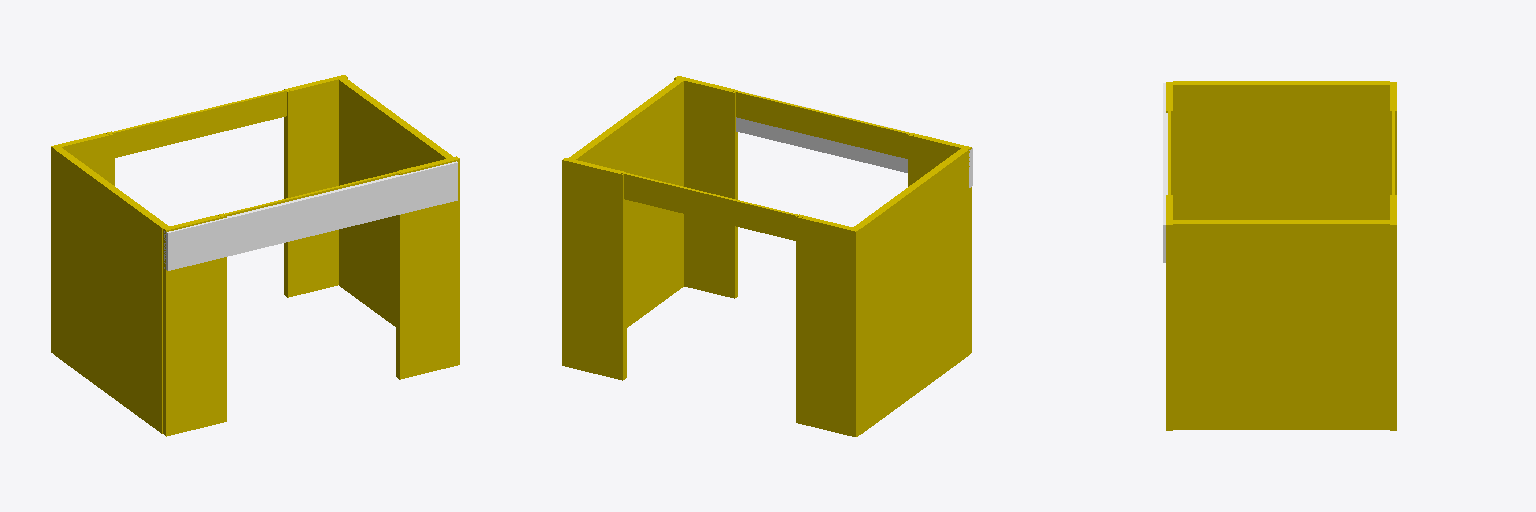
File: phongbanve.obj
The picture shows the model from 3 angles: view 1: azimuth 30°, elevation 25°; view 2: azimuth 150°, elevation 25°; view 3: azimuth 270°, elevation 25°; orthographic projection.
Parts seen in each view (by area): view 1: obj4, obj9, obj5, obj1, obj2, obj7, obj8, obj6, obj3; view 2: obj4, obj7, obj6, obj5, obj2, obj8, obj3, obj9, obj1; view 3: obj5, obj4, obj2, obj7, obj9, obj6.
Boxes of the visible parts, x1=… form: obj4: x1=54, y1=147, x2=168, y2=433; obj9: x1=164, y1=161, x2=457, y2=270; obj5: x1=339, y1=78, x2=452, y2=326; obj1: x1=163, y1=213, x2=226, y2=436; obj2: x1=396, y1=156, x2=459, y2=379; obj7: x1=284, y1=75, x2=347, y2=297; obj8: x1=106, y1=89, x2=289, y2=157; obj6: x1=51, y1=131, x2=114, y2=353; obj3: x1=218, y1=171, x2=400, y2=216; obj4: x1=853, y1=148, x2=968, y2=434; obj7: x1=562, y1=158, x2=626, y2=380; obj6: x1=796, y1=214, x2=859, y2=436; obj5: x1=569, y1=79, x2=683, y2=327; obj2: x1=674, y1=76, x2=737, y2=298; obj8: x1=621, y1=172, x2=803, y2=240; obj3: x1=733, y1=90, x2=915, y2=158; obj9: x1=736, y1=91, x2=972, y2=187; obj1: x1=908, y1=133, x2=971, y2=354; obj5: x1=1173, y1=220, x2=1389, y2=429; obj4: x1=1173, y1=81, x2=1389, y2=219; obj2: x1=1166, y1=195, x2=1172, y2=430; obj7: x1=1390, y1=195, x2=1396, y2=430; obj9: x1=1163, y1=83, x2=1167, y2=262; obj6: x1=1390, y1=82, x2=1396, y2=194.
Size of the model in its own units: 24.31 by 16.27 by 16.7.